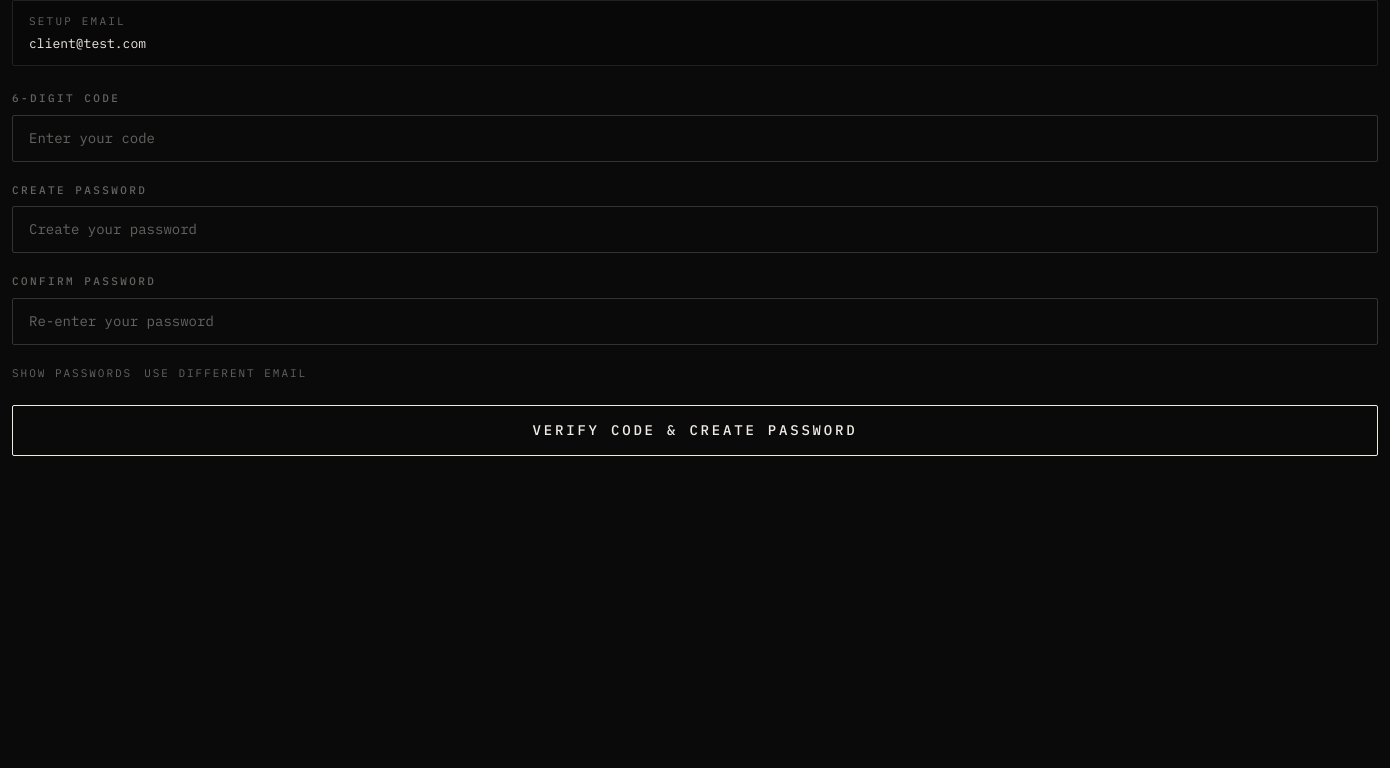
Test: ClientVerifySetupCodeForm › shows fallback form error when verifySetupCodeAndSetPassword rejects with non-Error
The width and height of the screenshot is (1390, 768).
Type "123456" into the field labelled "6-Digit Code".
click(695, 138); type("123456")  # box [12, 114, 1378, 162]
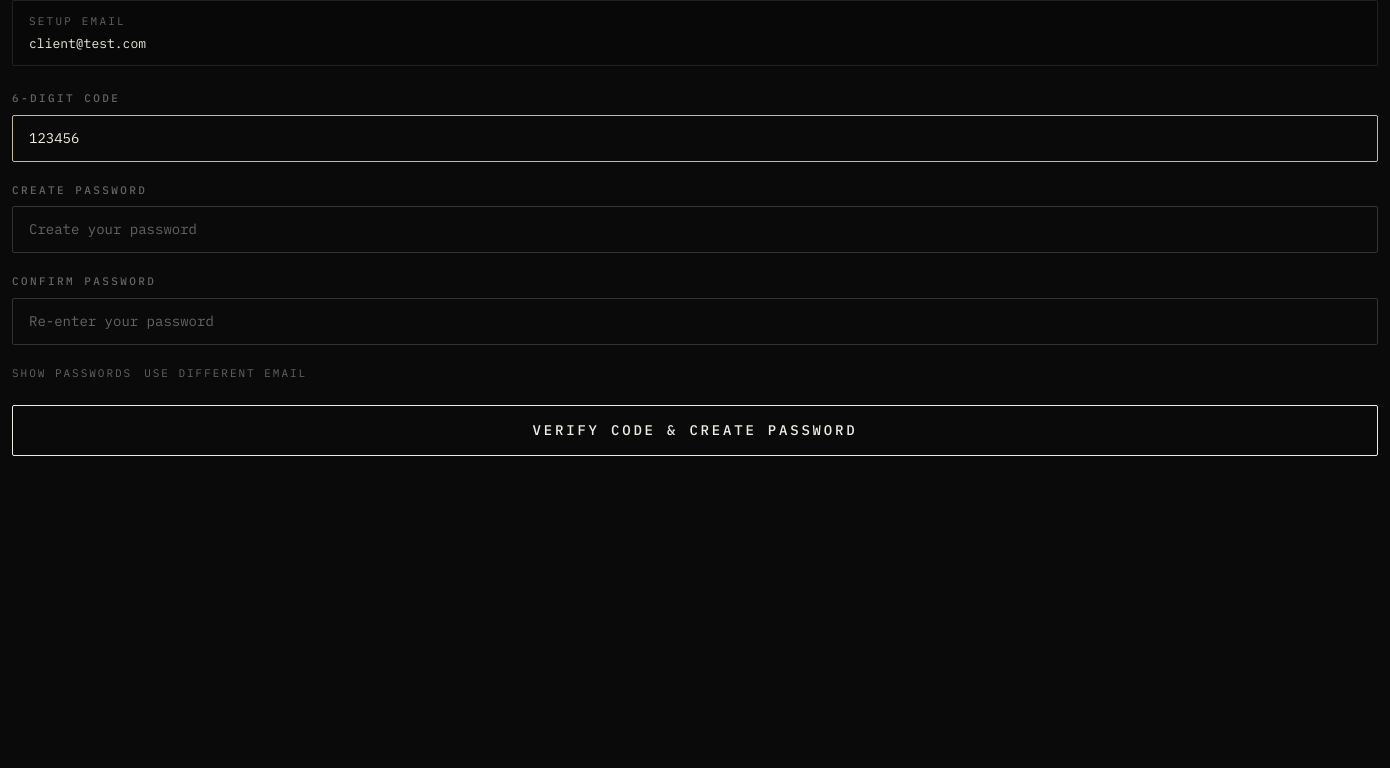
Type "password123" into the password field labelled "Create Password".
click(695, 230); type("password123")  # box [12, 206, 1378, 253]
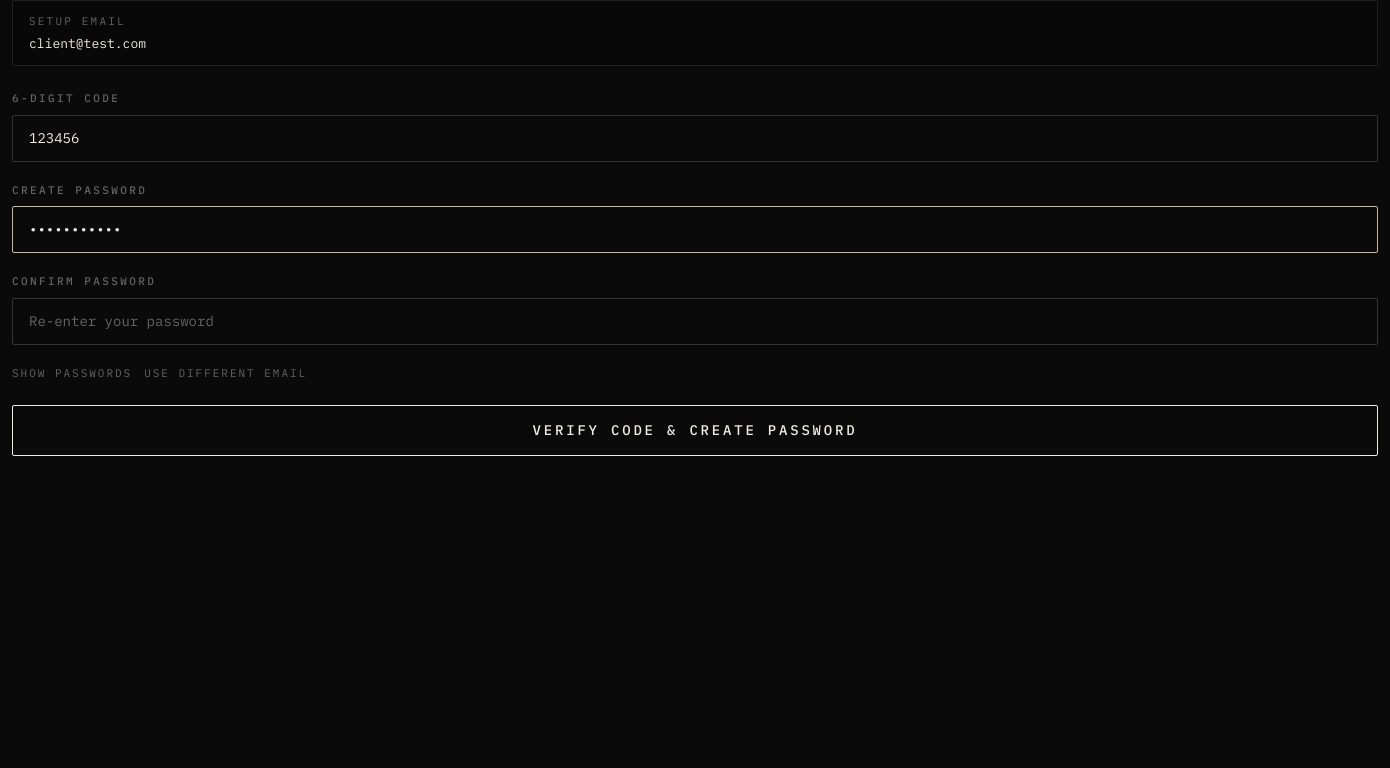
Type "password123" into the password field labelled "Confirm Password".
click(695, 321); type("password123")  # box [12, 298, 1378, 344]
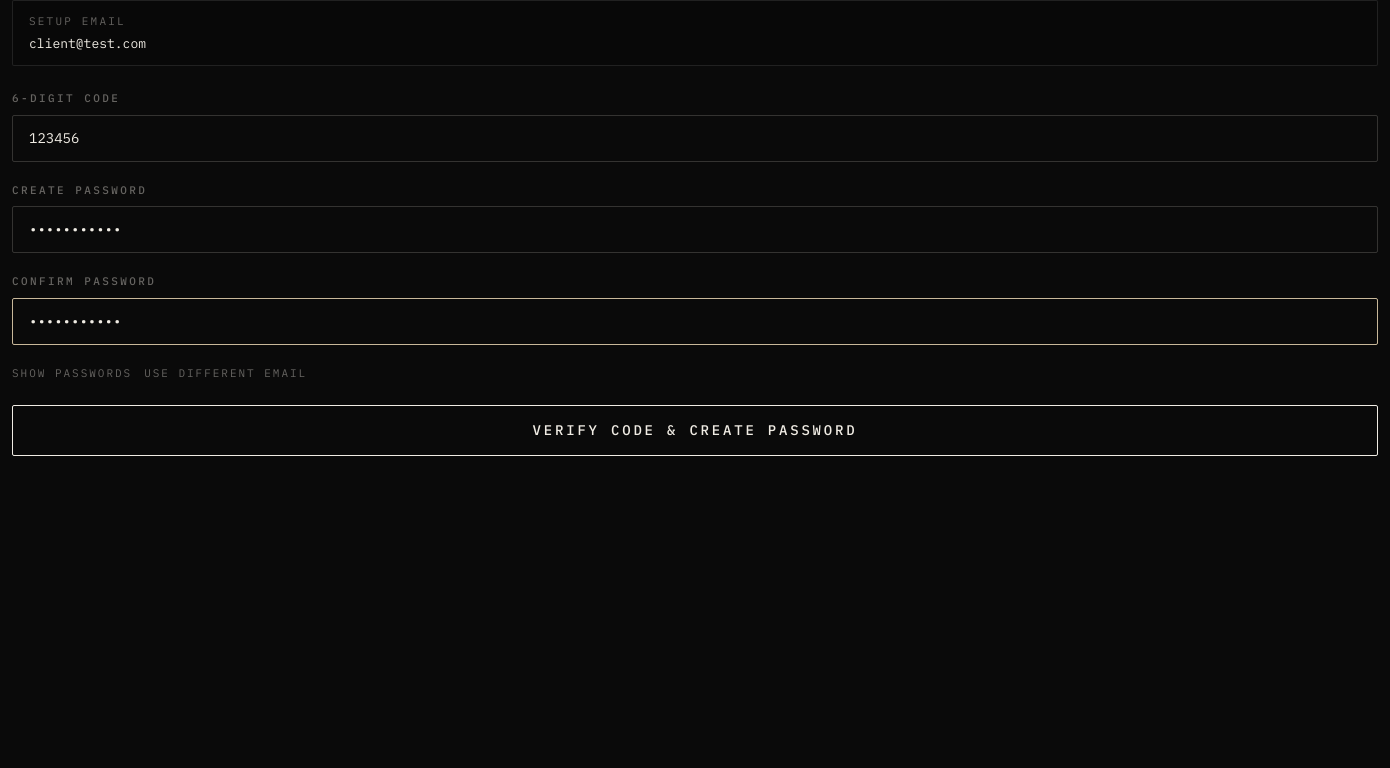
Click the button "Verify Code & Create Password".
click(695, 430)  # box [12, 405, 1378, 456]
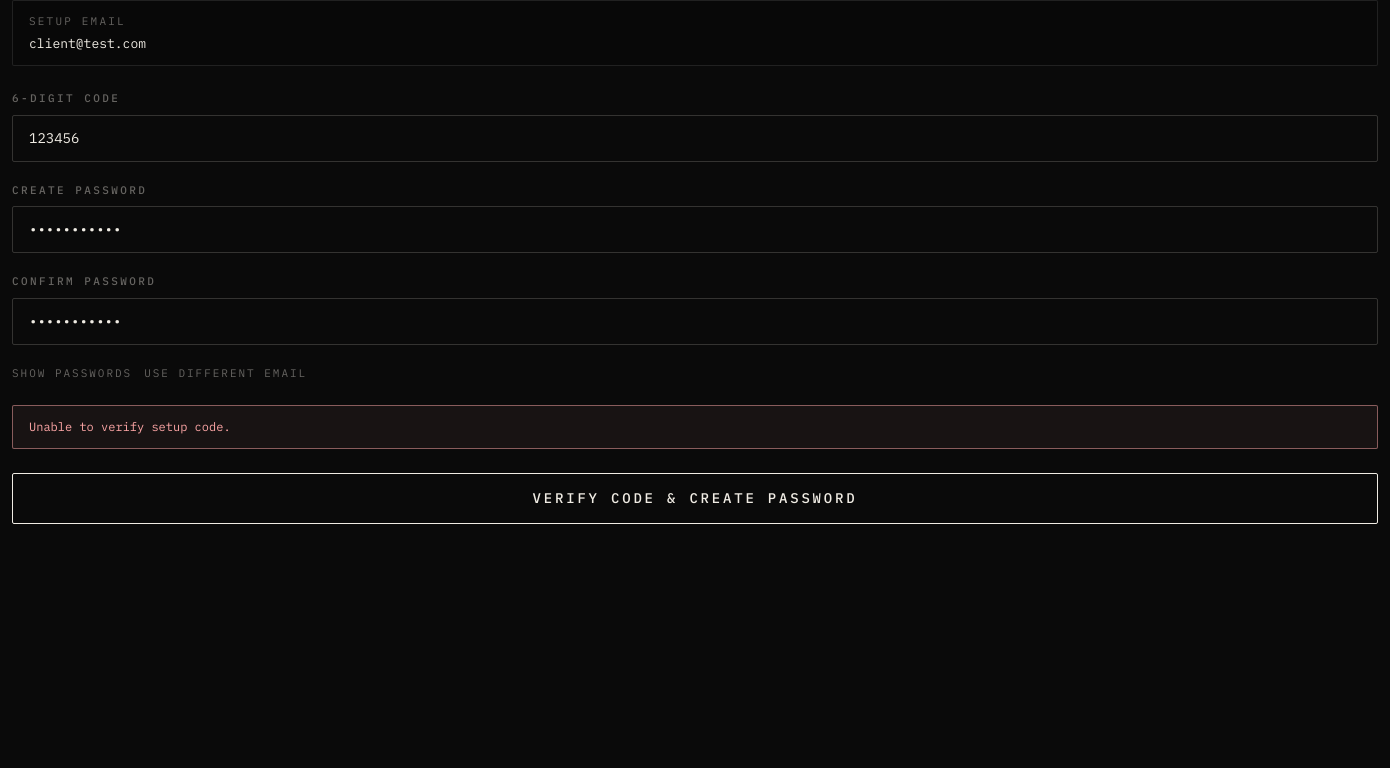
Expected: the text "Unable to verify setup code." is shown, [29, 419, 231, 434]
